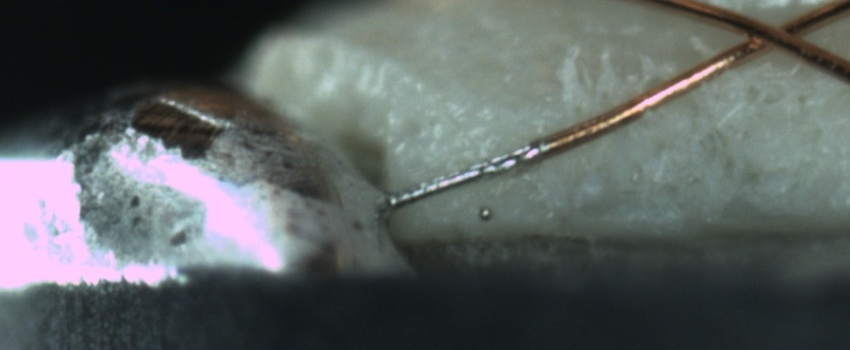CL: (719, 5, 817, 62)
TS: (388, 140, 544, 207)
